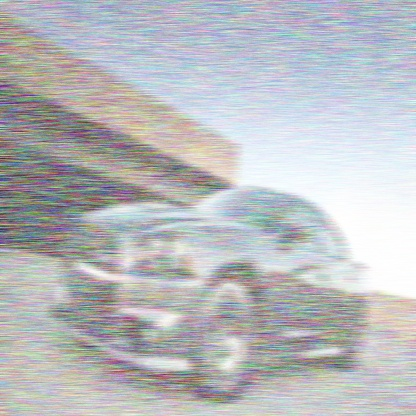Vehicle: (53, 188, 371, 405)
